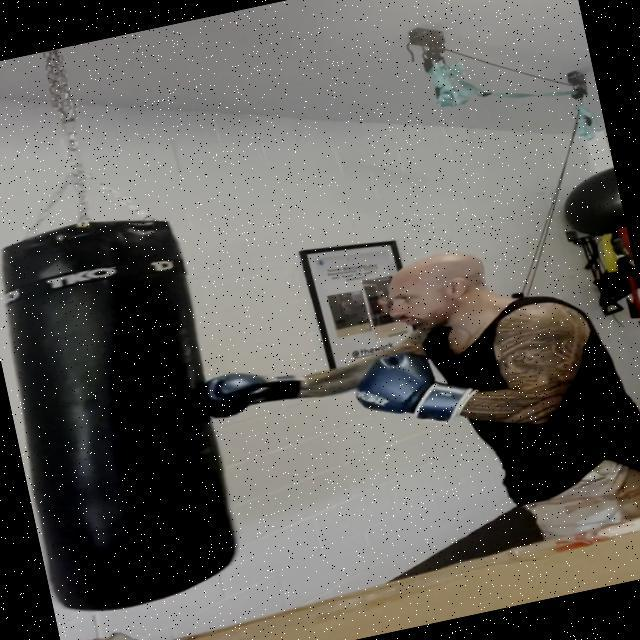bag: (0, 205, 267, 616)
cross: (206, 320, 443, 425)
